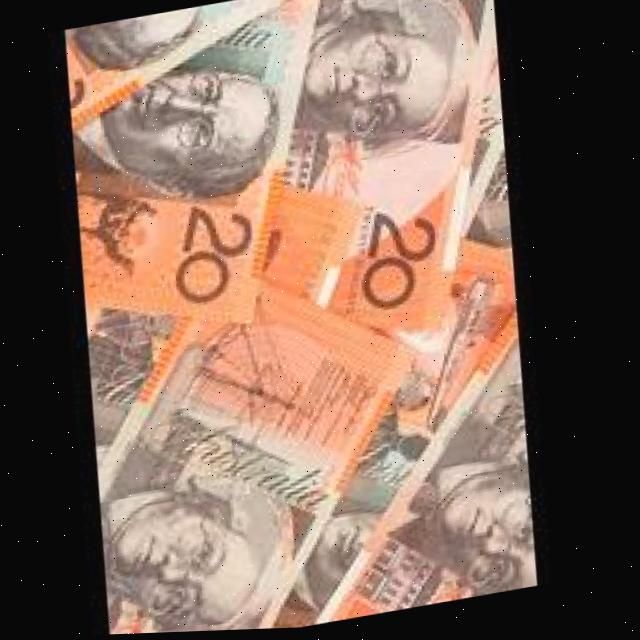banknote: (67, 241, 483, 637), (232, 231, 567, 632), (215, 0, 541, 377), (51, 0, 367, 353), (280, 296, 562, 629), (62, 0, 332, 135)
